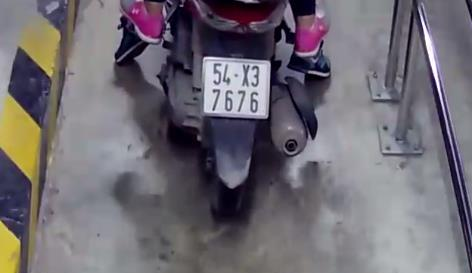lisence: (202, 57, 270, 119)
